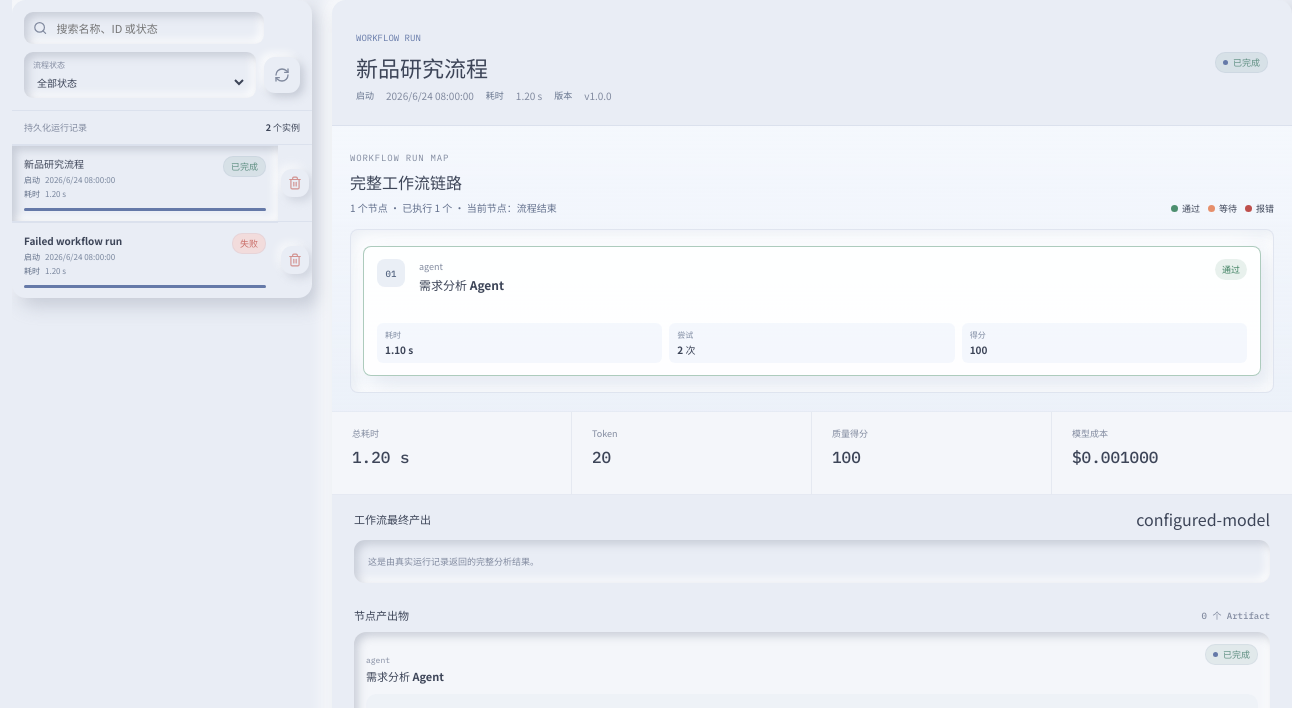
Test: Runs › filters workflow runs by displayed status
Expected: the button "Failed workflow run 启动 2026/6/24 08:00:00 耗时 1.20 s 失败" is shown, left=12, top=222, right=278, bottom=298
Select "失败" in the dropdown named "流程状态筛选": (140, 82) left=33, top=74, right=247, bottom=91
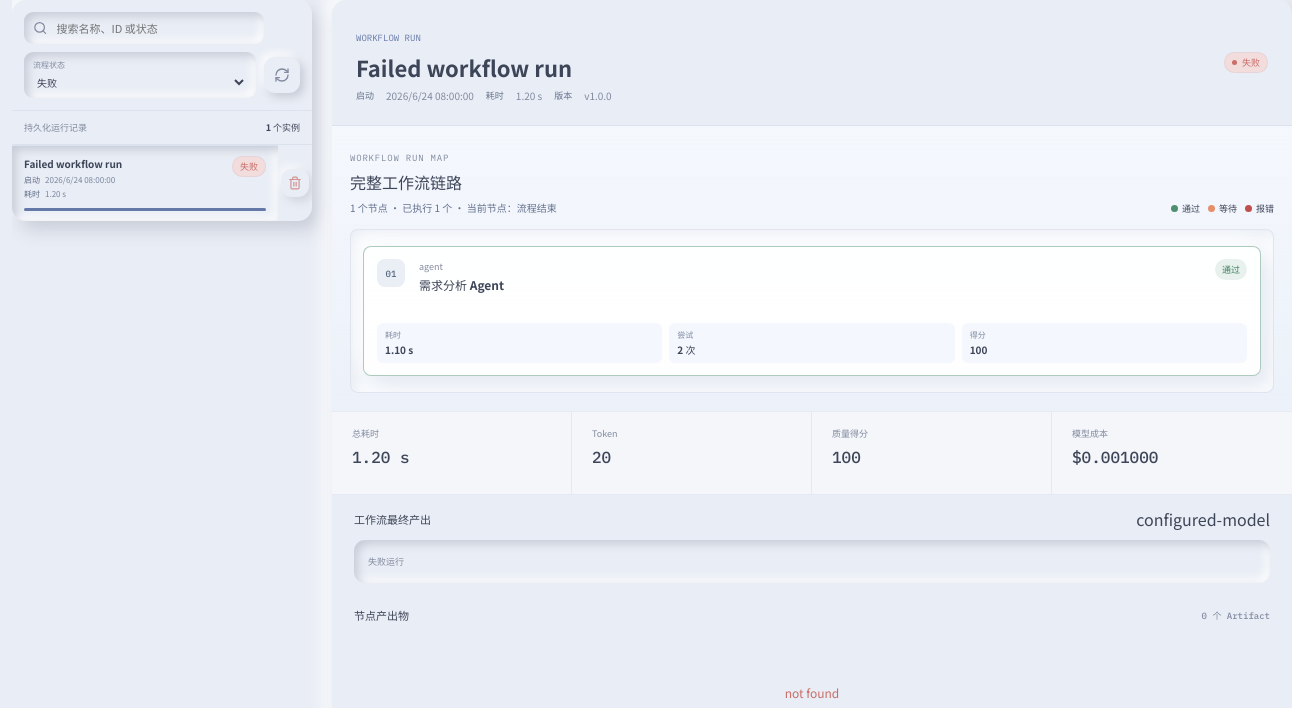
Expected: the button "Failed workflow run 启动 2026/6/24 08:00:00 耗时 1.20 s 失败" is shown, left=12, top=145, right=278, bottom=221
Now the button "新品研究流程" is gone
Now the heading "Failed workflow run" is shown, box left=356, top=51, right=572, bottom=83
